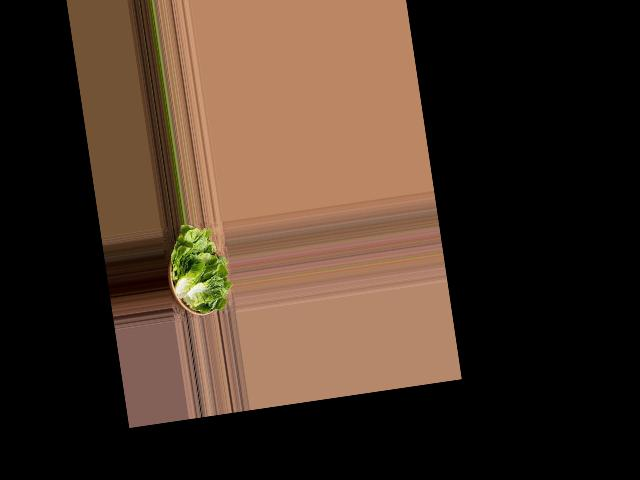lettuce: (161, 220, 233, 323)
